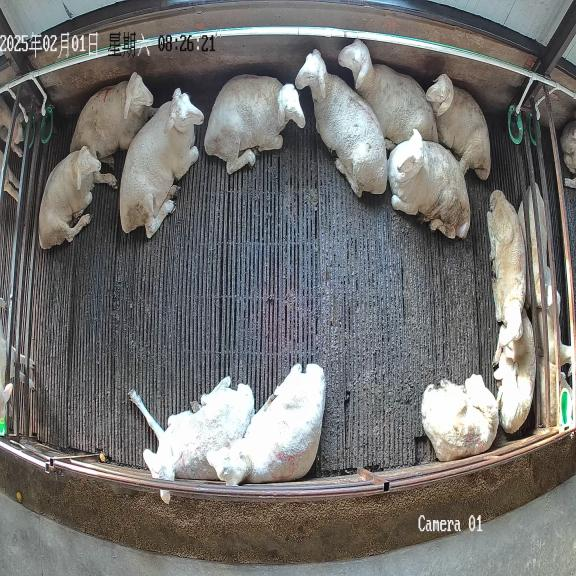lying: (207, 364, 325, 485), (295, 49, 387, 197), (130, 376, 254, 481), (120, 88, 204, 238), (338, 39, 438, 150), (204, 74, 305, 174), (388, 129, 470, 239), (70, 72, 156, 162), (487, 190, 526, 366), (421, 374, 499, 461), (426, 74, 490, 179), (38, 146, 101, 248), (493, 312, 536, 433)
